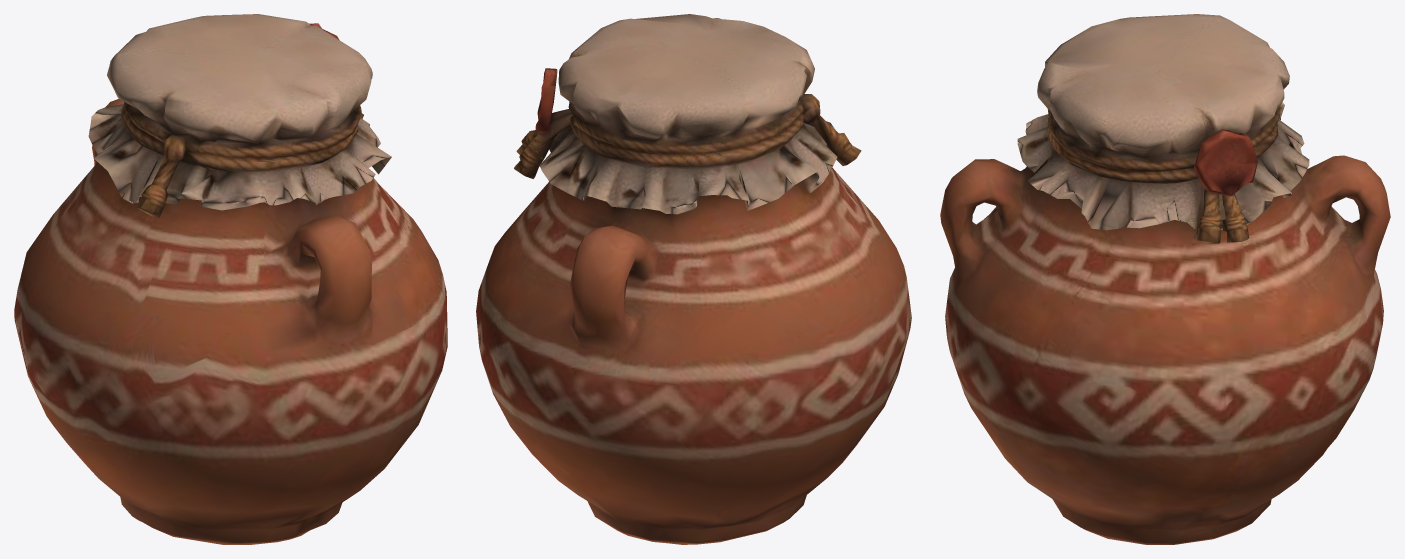
The model's file is n_comlek.glb.
The picture shows the model from 3 angles, left to right: view 1: azimuth 30°, elevation 25°; view 2: azimuth 150°, elevation 25°; view 3: azimuth 270°, elevation 25°; orthographic projection.
Visible parts, largest first — view 1: tripo_node_d29c99a4-9152-40c1-98fb-9e8324614808; view 2: tripo_node_d29c99a4-9152-40c1-98fb-9e8324614808; view 3: tripo_node_d29c99a4-9152-40c1-98fb-9e8324614808.
Part boxes in pixels (box(x1,y1,x2,y2)): tripo_node_d29c99a4-9152-40c1-98fb-9e8324614808: box(14, 14, 447, 544); tripo_node_d29c99a4-9152-40c1-98fb-9e8324614808: box(476, 14, 911, 544); tripo_node_d29c99a4-9152-40c1-98fb-9e8324614808: box(940, 14, 1390, 544).
Bounding box in the file's own units: 0.873 × 0.998 × 0.9082.
1 material, 1 textured.
